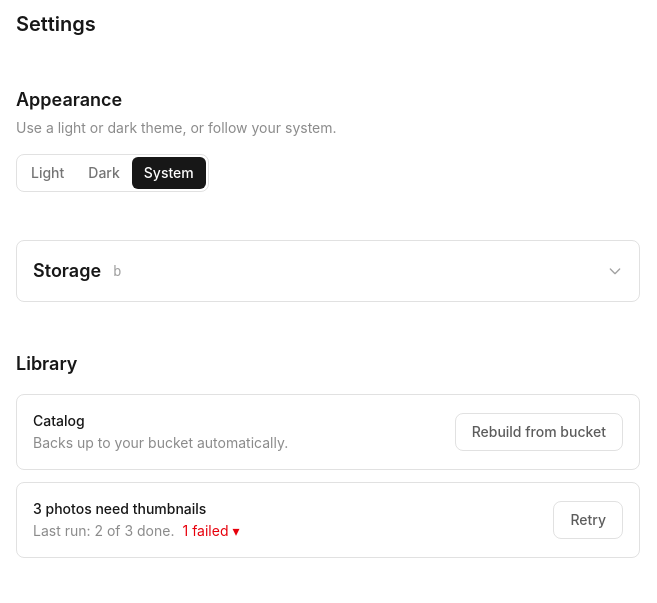
Scenario: Settings library refresh › names the photos that failed and offers a retry hint
Expected: the heading "Library" is shown, [16,353,78,374]
Expected: the text "Last run: 2 of 3 done." is shown, [33,521,174,541]
Click the button with test id "toggle-failures" at (211, 531), box [182,521,240,541]
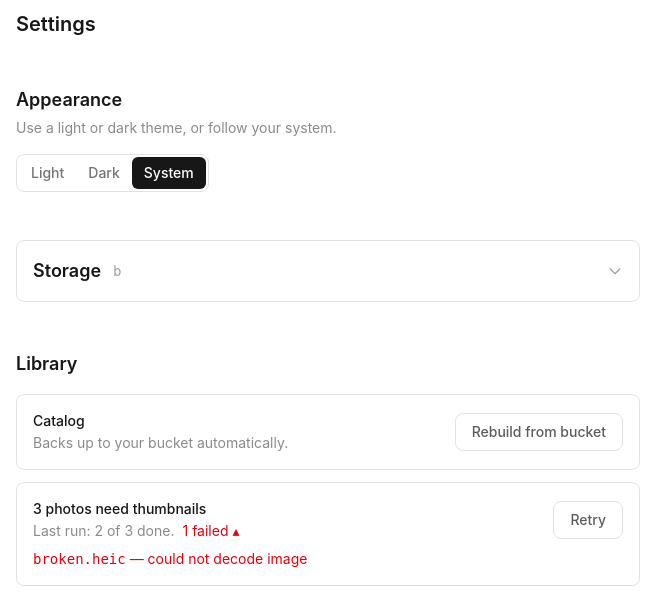
Result: the text "broken.heic" is shown at [33,551,126,567]
Result: the list item "broken.heic — could not decode image" is shown at [33,550,307,567]
